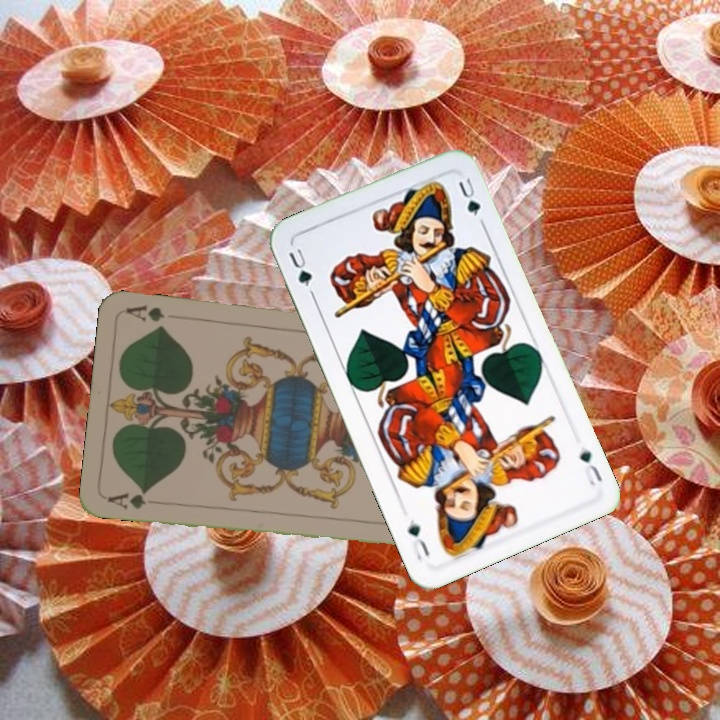GA: (103, 486, 150, 512)
GU: (284, 244, 317, 298), (575, 444, 605, 489)
